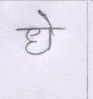e_matra: (38, 10, 55, 27)
